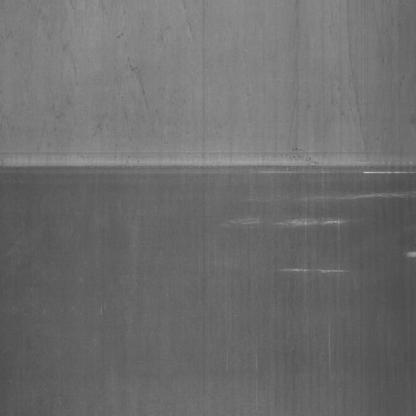welding_line: (0, 152, 415, 184)
